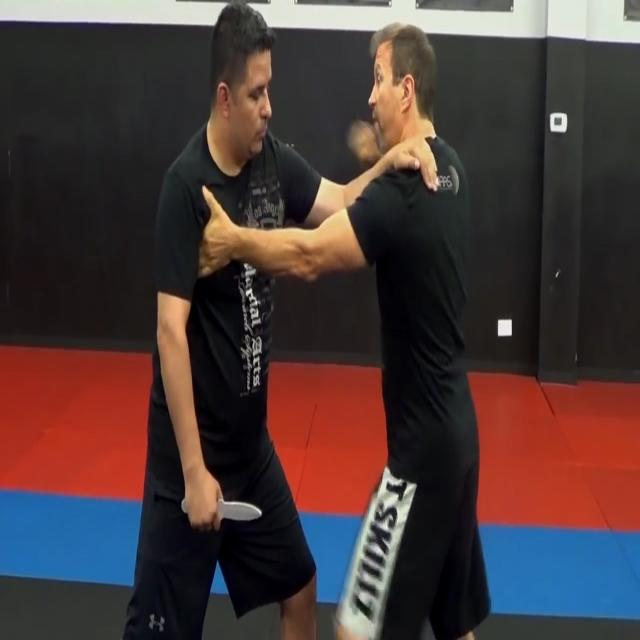knife: (216, 493, 266, 534)
